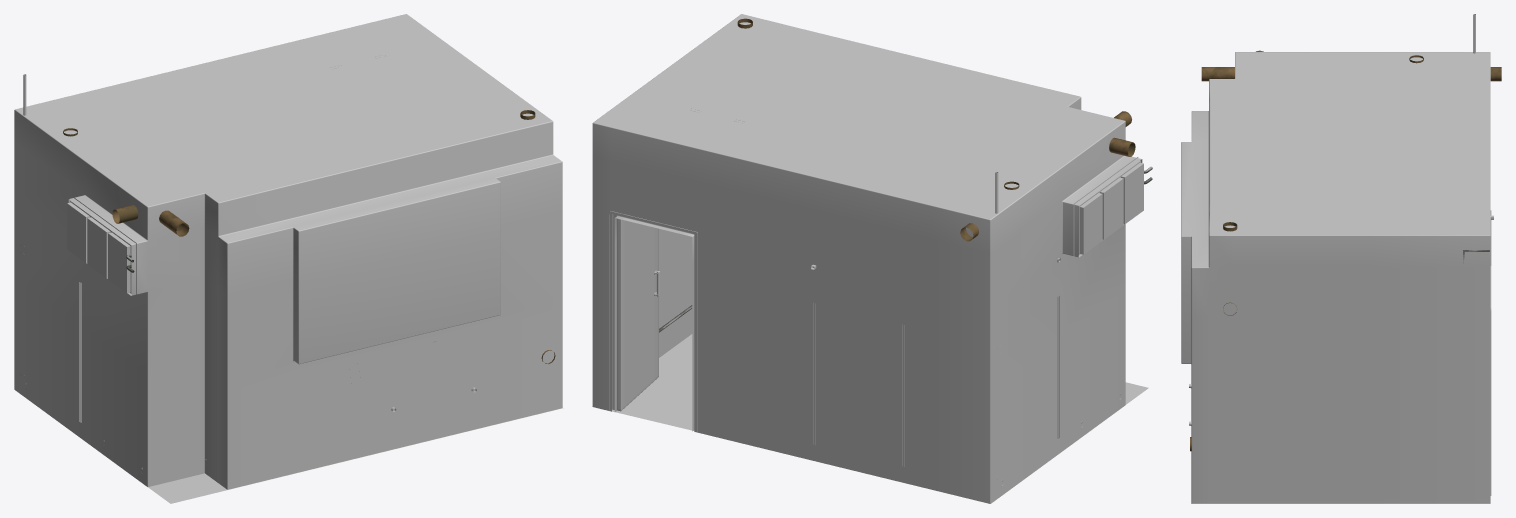
Rendered from Creepy Bathroom.FBX.
The picture shows the model from 3 angles, left to right: view 1: azimuth 30°, elevation 25°; view 2: azimuth 150°, elevation 25°; view 3: azimuth 270°, elevation 25°; orthographic projection. The views are drawn at different scales.
Visible parts, largest first — view 1: 023_Walls, 022_Window, 024_Floor, 014_Pipe_A_001; view 2: 023_Walls, 010_Door, 024_Floor, 022_Window, 021_Stalls, 014_Pipe_A_001; view 3: 023_Walls, 014_Pipe_A_001, 010_Door, 024_Floor.
Boxes of the visible parts, x1,y1,x2,y2 form: 023_Walls: [14, 14, 562, 489]; 022_Window: [67, 197, 136, 296]; 024_Floor: [148, 408, 563, 503]; 014_Pipe_A_001: [63, 128, 189, 236]; 023_Walls: [592, 14, 1142, 503]; 010_Door: [609, 211, 697, 432]; 024_Floor: [592, 334, 1148, 430]; 022_Window: [1073, 157, 1143, 257]; 021_Stalls: [811, 258, 1060, 466]; 014_Pipe_A_001: [960, 111, 1135, 241]; 023_Walls: [1181, 52, 1490, 503]; 014_Pipe_A_001: [1201, 50, 1501, 81]; 010_Door: [1490, 266, 1491, 495]; 024_Floor: [1191, 364, 1490, 503].
Bounding box in the file's own units: 542 × 378 × 401.
